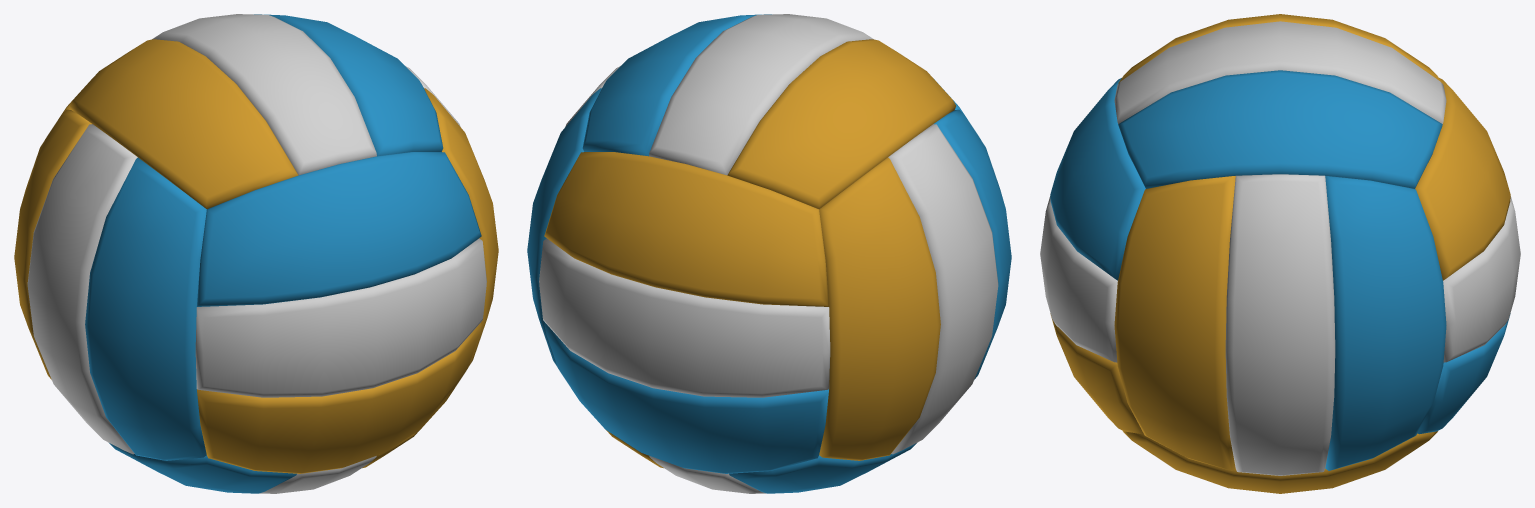
The model's file is volleyBall.fbx.
3 renders of one model, left to right at view 1: azimuth 30°, elevation 25°; view 2: azimuth 150°, elevation 25°; view 3: azimuth 270°, elevation 25°, orthographic.
Visible parts, largest first — view 1: ballValleyball; view 2: ballValleyball; view 3: ballValleyball.
Boxes of the visible parts, left/top/right/bottom form: ballValleyball: left=14, top=14, right=498, bottom=493; ballValleyball: left=527, top=14, right=1011, bottom=493; ballValleyball: left=1040, top=14, right=1520, bottom=493.
Bounding box in the file's own units: 1 × 1 × 1.
Materials: 1 (1 with a texture image).
